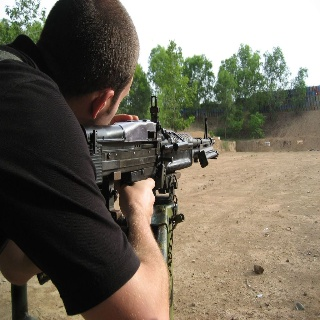rifle: (80, 93, 224, 212)
